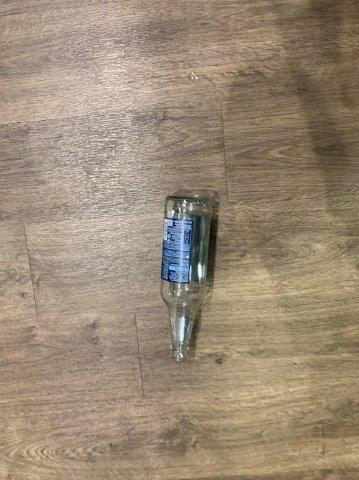botolkaca: (161, 197, 212, 359)
